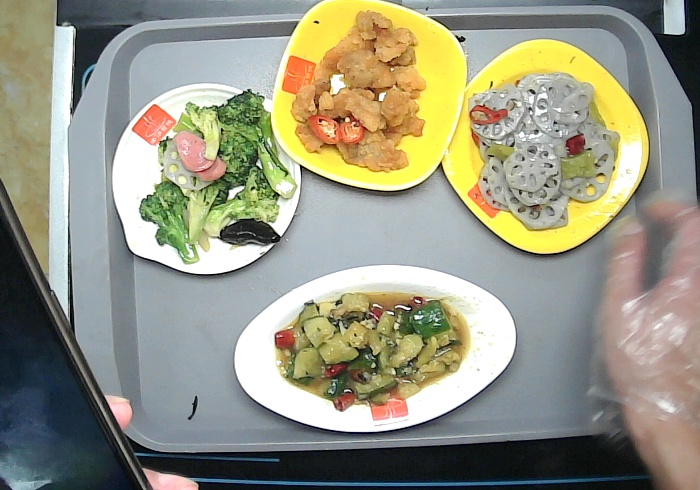SHKJ-Bao_Yu_Pan: (107, 79, 306, 277)
SHKJ-Huang_Se_Cai_Die: (267, 1, 471, 196)
SHKJ-Huang_Se_Si_Fang_Cai_Die: (437, 34, 653, 259)
SHKJ-Yu_Pan: (231, 260, 520, 436)
